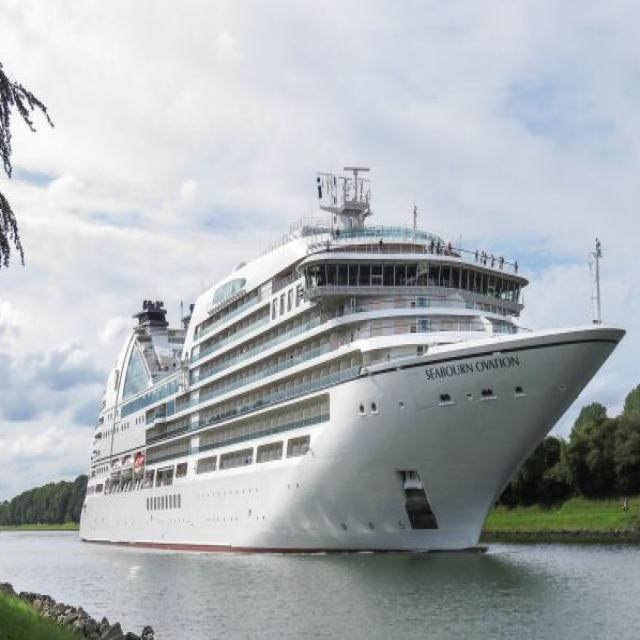cruises: (75, 162, 630, 567)
